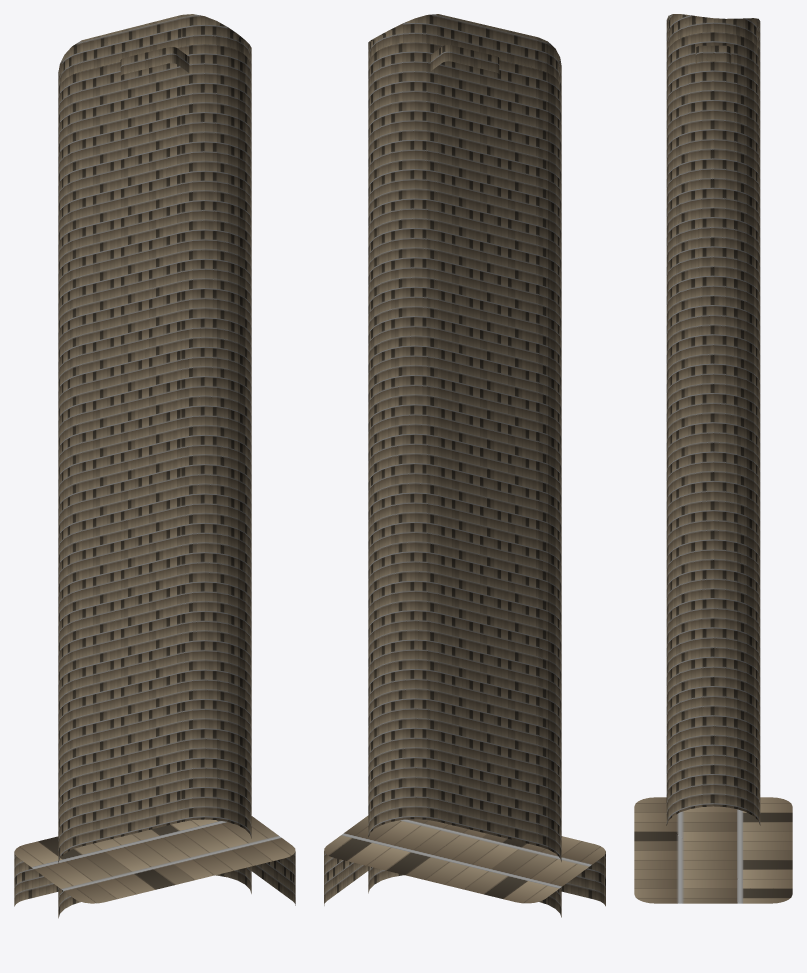
Rendered from ocean_tower.glb.
3 renders of one model, left to right at view 1: azimuth 30°, elevation 25°; view 2: azimuth 150°, elevation 25°; view 3: azimuth 270°, elevation 25°, orthographic.
Visible parts, largest first — view 1: geometry_0; view 2: geometry_0; view 3: geometry_0.
Part boxes in pixels (x1,y1,x2,y2): geometry_0: (14, 14, 295, 918); geometry_0: (324, 14, 605, 917); geometry_0: (634, 14, 792, 903).
Size of the model in its own units: 70 by 265 by 44.
1 material, 1 textured.
